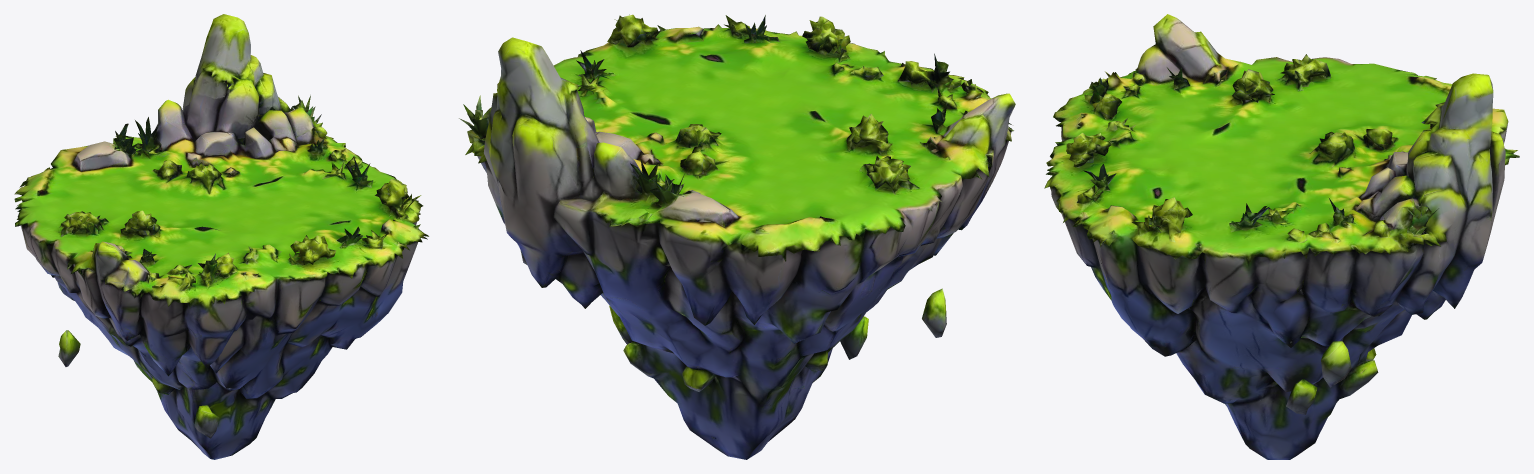
The model's file is Floating_Paradise.glb.
3 views of the same model, side by side, from view 1: azimuth 30°, elevation 25°; view 2: azimuth 150°, elevation 25°; view 3: azimuth 270°, elevation 25° (orthographic). The views are drawn at different scales.
Visible parts, largest first — view 1: Floating_Paradise; view 2: Floating_Paradise; view 3: Floating_Paradise.
Boxes of the visible parts, <box> form: Floating_Paradise: <box>14,14,428,459</box>; Floating_Paradise: <box>459,14,1015,459</box>; Floating_Paradise: <box>1044,14,1519,459</box>.
Bounding box in the file's own units: 1.86 × 1.89 × 1.87.
1 material, 1 textured.
